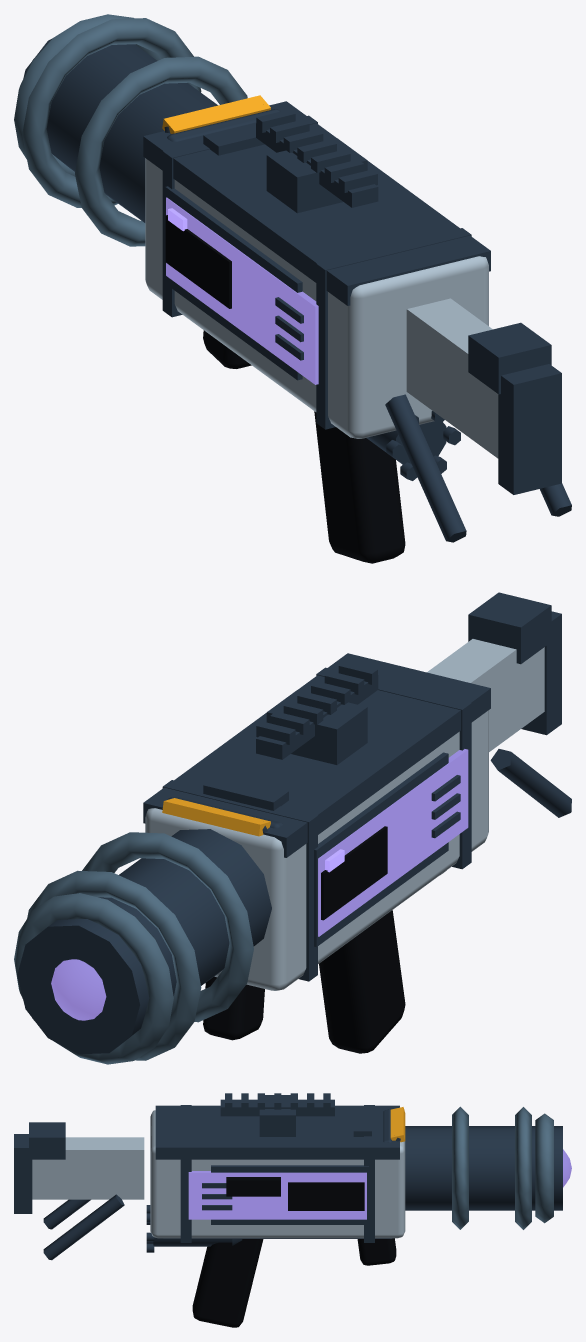
Rendered from gravity_gun.glb.
3 views of the same model, one above another, from view 1: azimuth 30°, elevation 25°; view 2: azimuth 150°, elevation 25°; view 3: azimuth 270°, elevation 25° (orthographic). The views are drawn at different scales.
Parts seen in each view (by area): view 1: Receiver, Barrel, Stock, Grip, Rail, Extras, MuzzleDevice, Magazine, Bolts, ForeGrip; view 2: Receiver, Barrel, Stock, MuzzleDevice, Grip, Rail, ForeGrip, Extras; view 3: Receiver, Barrel, Stock, Grip, MuzzleDevice, Rail, ForeGrip, Extras, Magazine.
Part boxes in pixels (<box>): Receiver: <box>143,101,490,438</box>; Barrel: <box>22,18,247,246</box>; Stock: <box>385,298,571,542</box>; Grip: <box>314,411,405,563</box>; Rail: <box>256,109,378,207</box>; Extras: <box>162,95,280,141</box>; MuzzleDevice: <box>14,14,161,176</box>; Magazine: <box>366,421,446,464</box>; Bolts: <box>386,411,460,480</box>; ForeGrip: <box>203,330,251,368</box>; Receiver: <box>143,653,490,990</box>; Barrel: <box>17,829,271,1060</box>; Stock: <box>427,592,571,817</box>; MuzzleDevice: <box>14,893,173,1064</box>; Grip: <box>319,910,405,1053</box>; Rail: <box>256,661,378,759</box>; ForeGrip: <box>203,976,264,1040</box>; Extras: <box>162,796,282,836</box>; Receiver: <box>150,1095,405,1242</box>; Barrel: <box>405,1106,562,1229</box>; Stock: <box>14,1122,144,1260</box>; Grip: <box>192,1239,263,1327</box>; MuzzleDevice: <box>535,1113,571,1223</box>; Rail: <box>220,1093,334,1116</box>; ForeGrip: <box>357,1238,396,1265</box>; Extras: <box>383,1107,405,1142</box>; Magazine: <box>153,1237,242,1246</box>.
Bounding box in the file's own units: 0.2217 × 0.4476 × 1.
